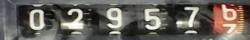digits: (144, 8, 162, 30), (106, 7, 122, 30), (28, 9, 44, 30), (68, 8, 83, 29), (184, 6, 198, 27), (223, 4, 238, 22)
